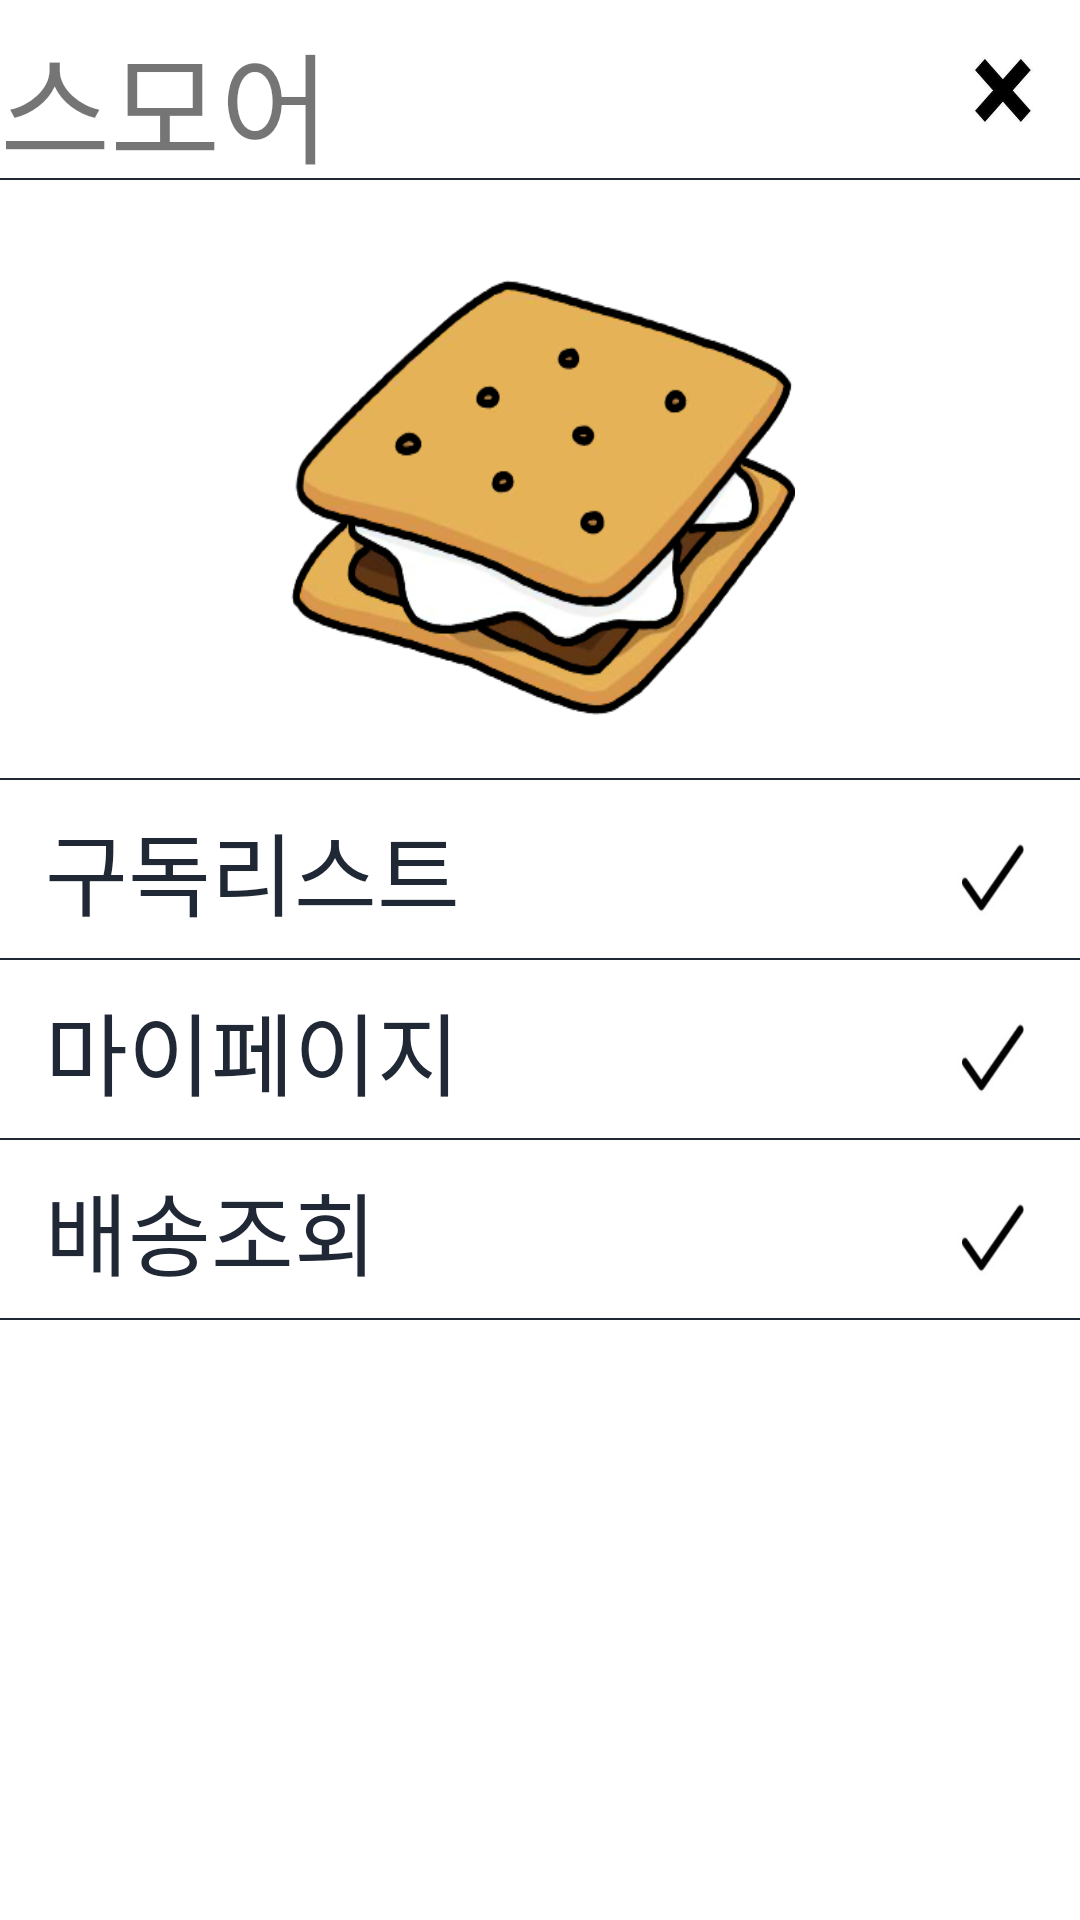

Point at icon controls on the screen. Image size 1080 × 1920, points as (x=x, y=y).
check: (x=993, y=877), (x=993, y=1057), (x=993, y=1237)
close: (x=1003, y=90)
